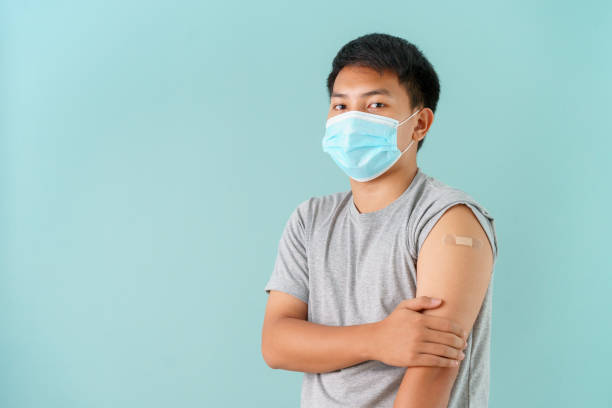with mask: (318, 64, 418, 183)
